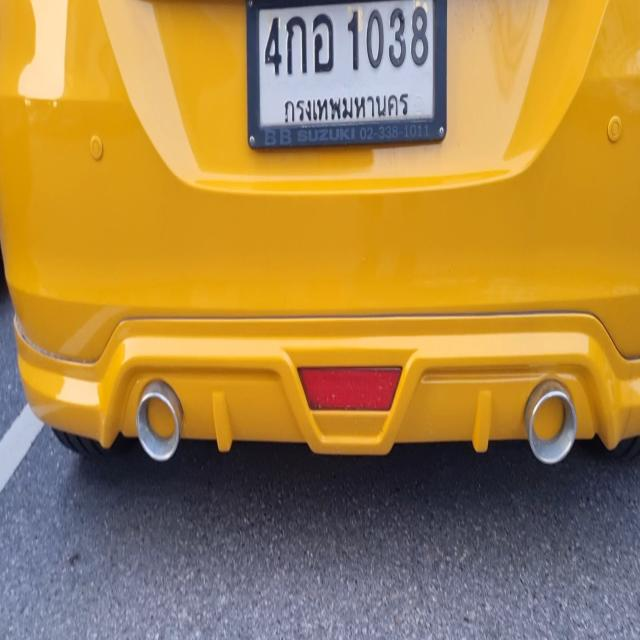license_plate: (245, 0, 448, 142)
